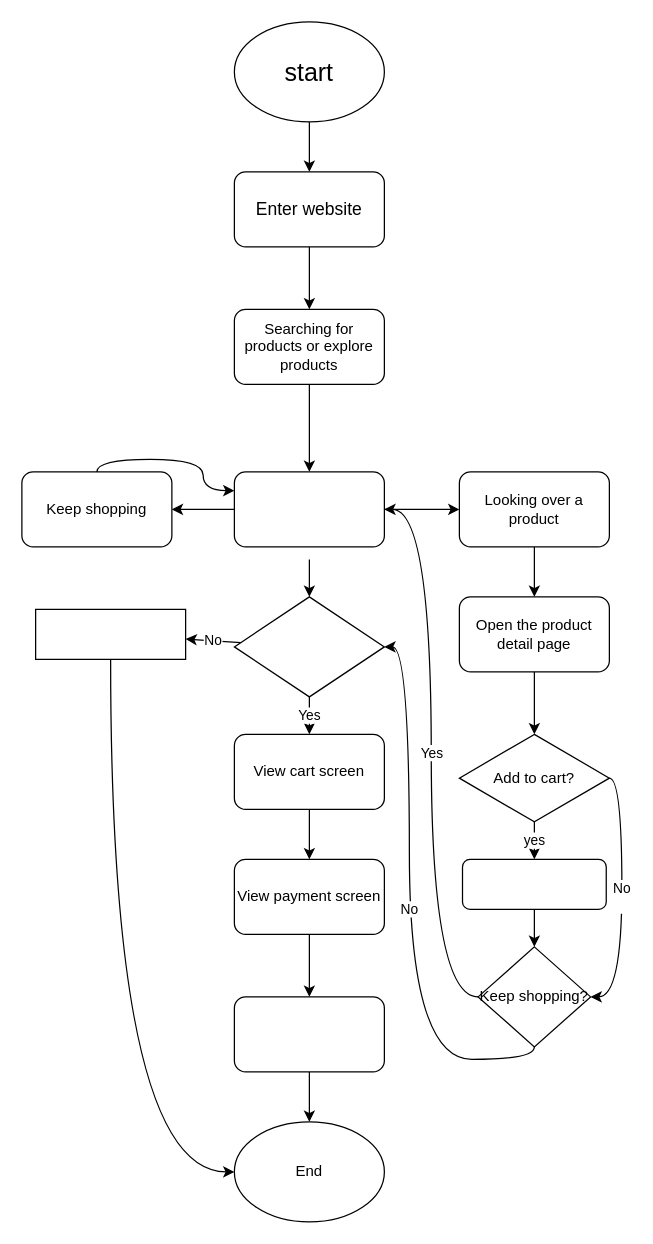
Image size: 653x1244. Some labels were removed from this diagram. The shapes that lost their labels are listed below. From the top down, each one's centre as x and y in pixels, then its label:
the point at 308,509: Browse products
the point at 110,633: Leave the Website
the point at 308,646: Check out?
the point at 533,883: Show “Added to cart” confirmation.
the point at 308,1034: Order confirmation
